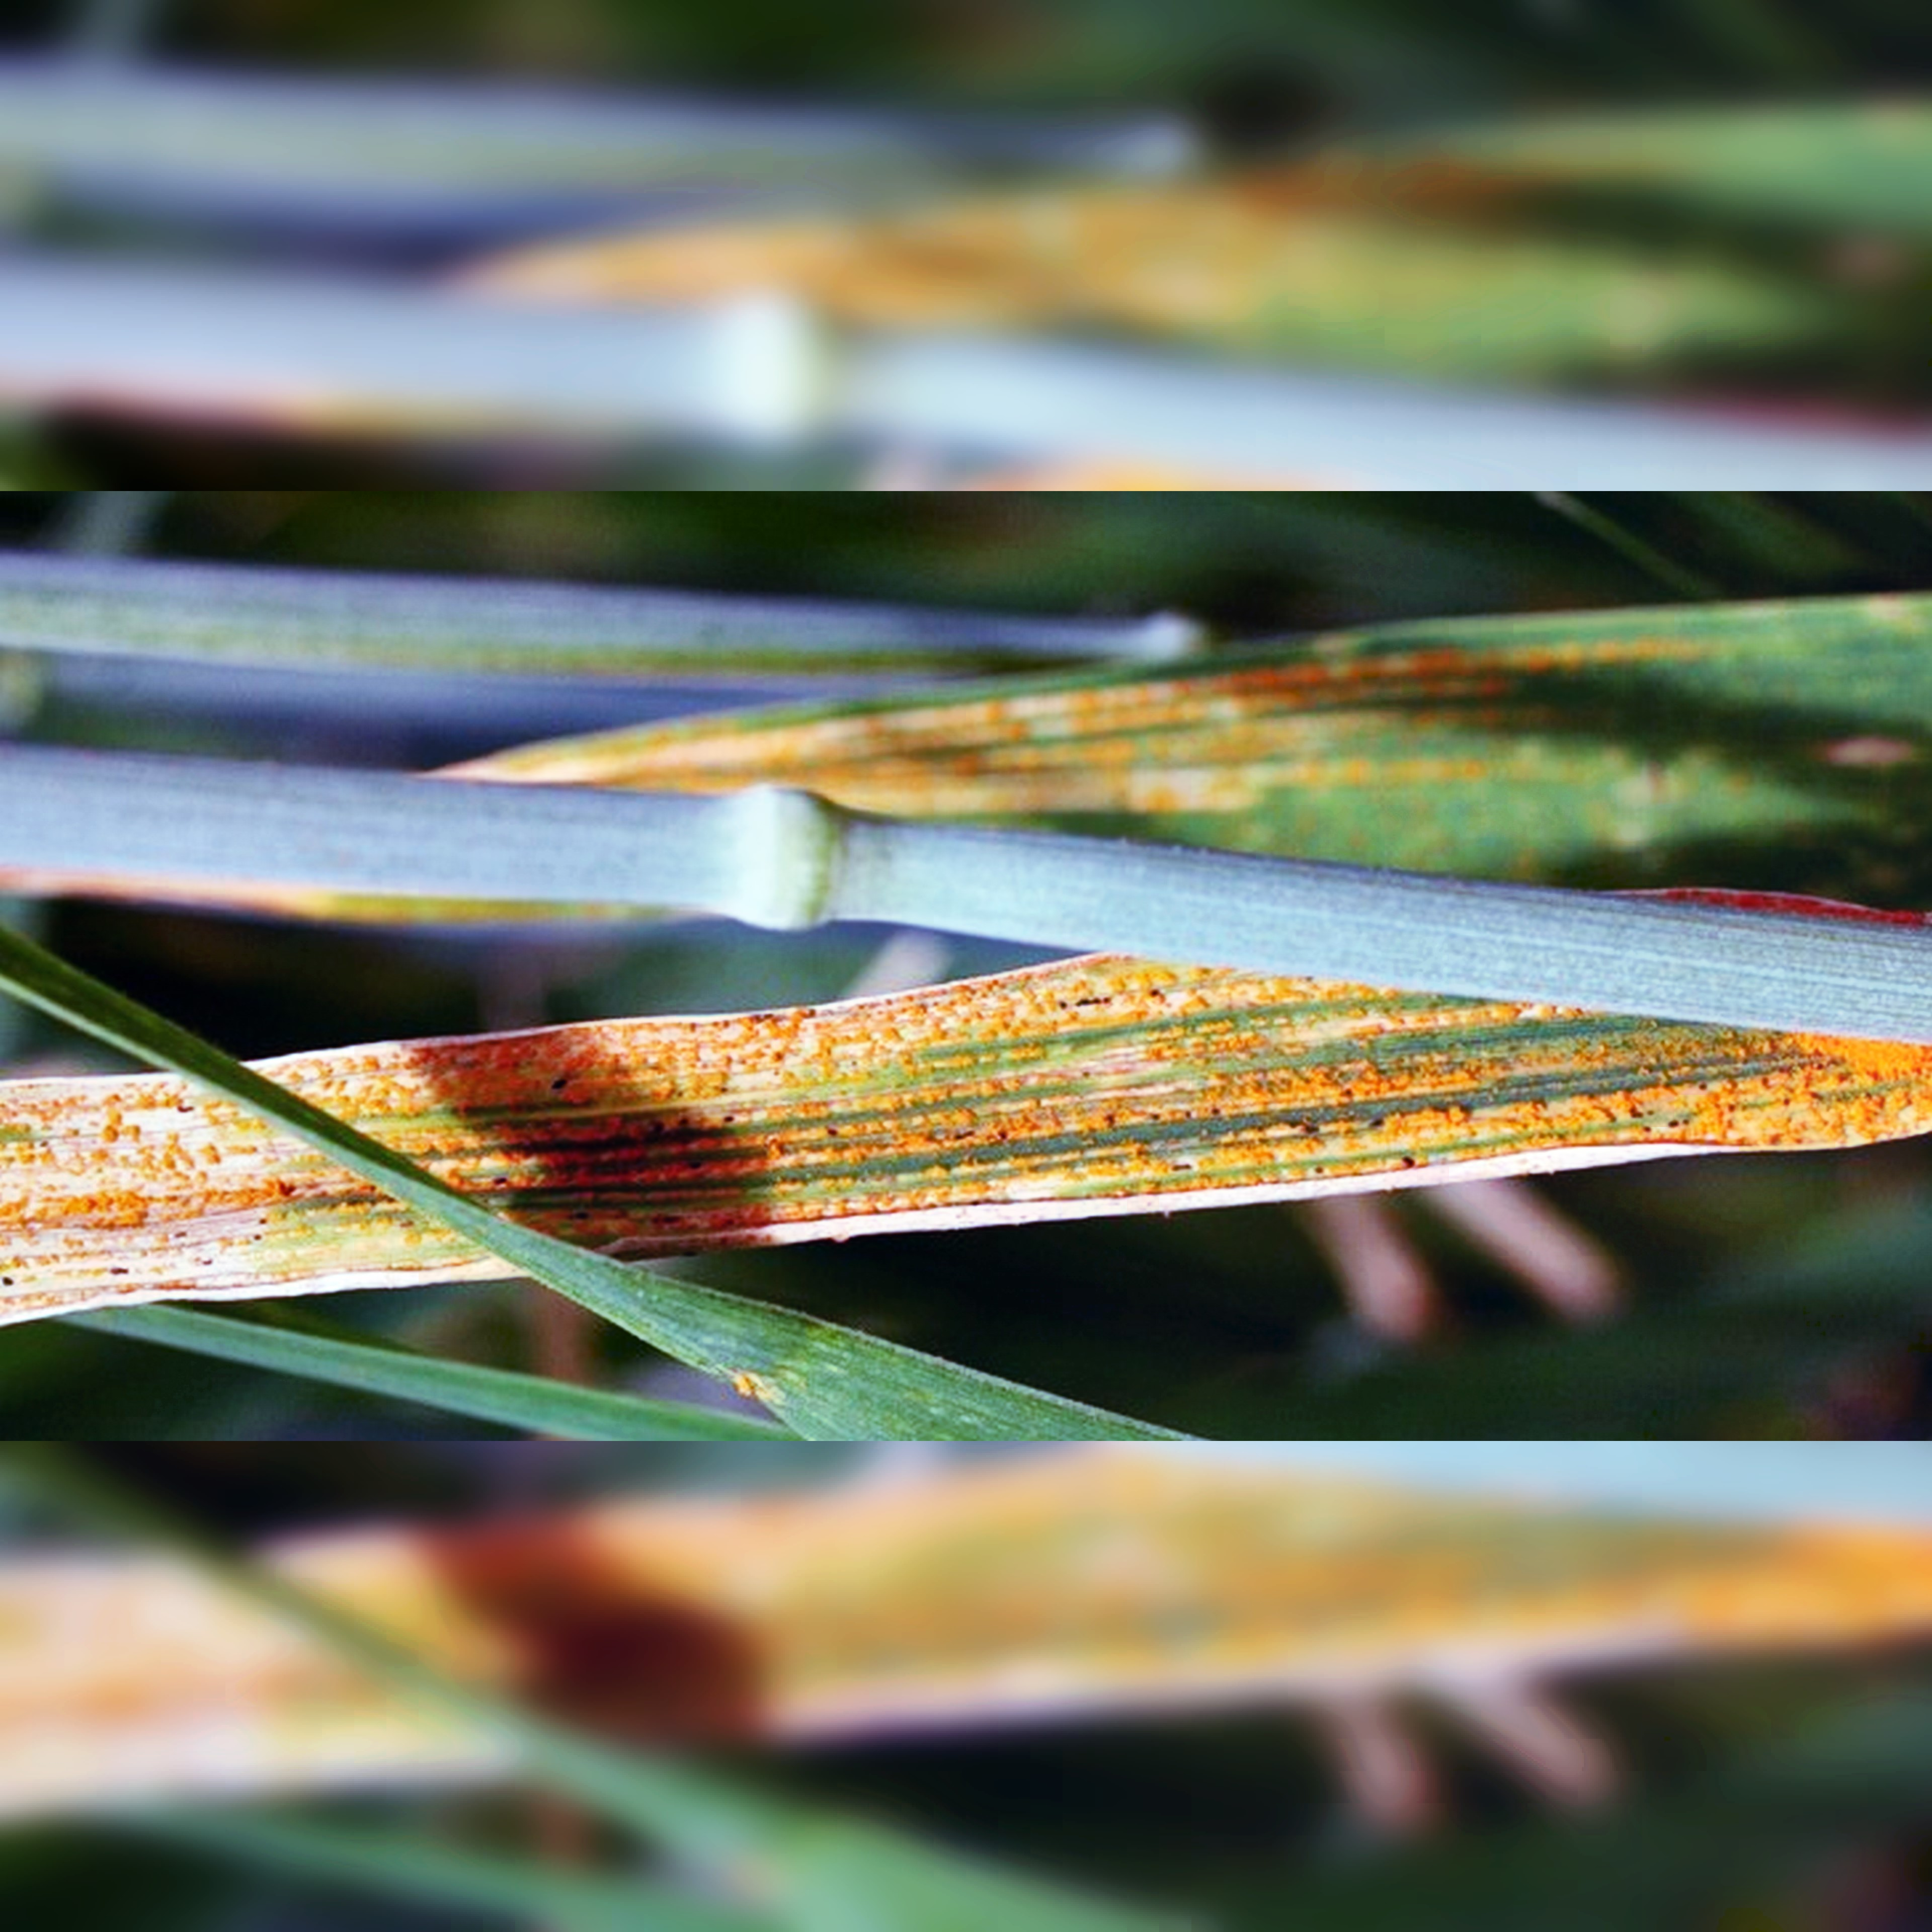Leaf Rust: (90, 908, 1882, 1315)
